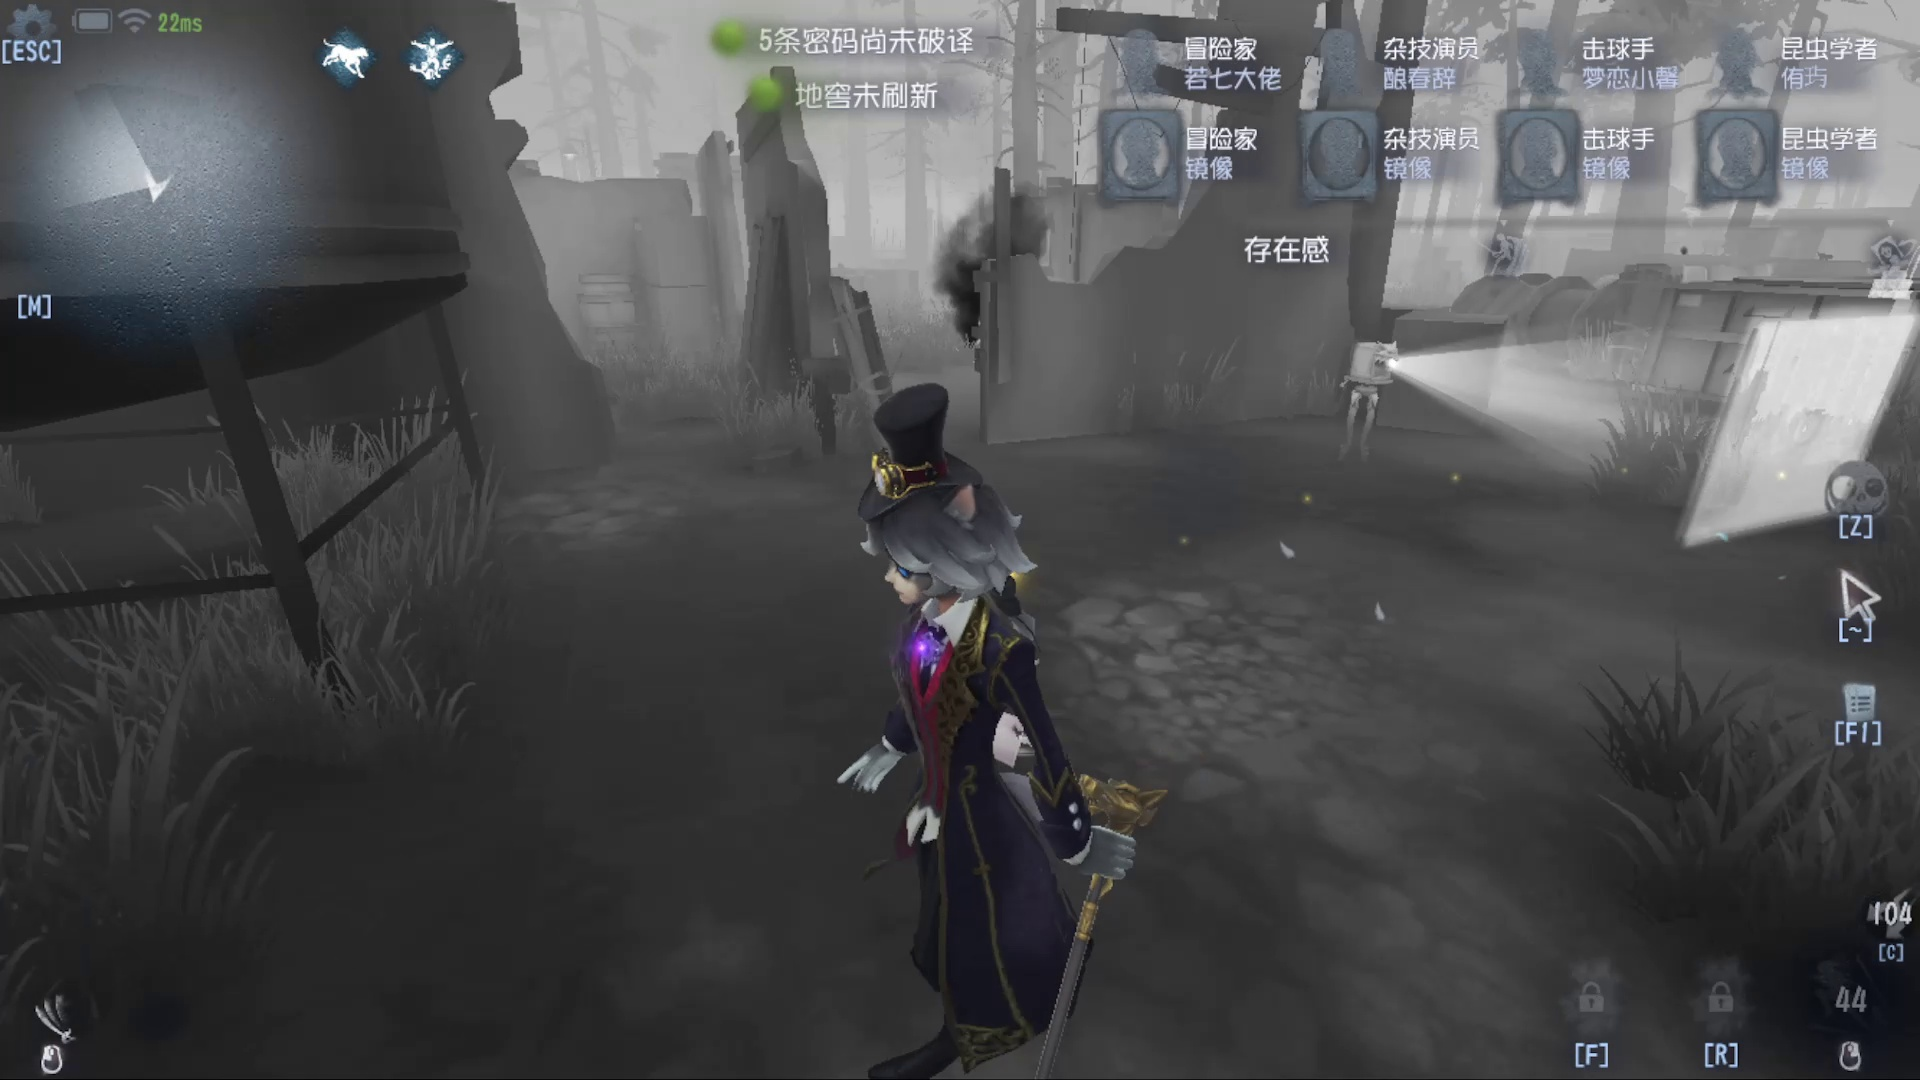木板: (824, 258, 945, 465)
